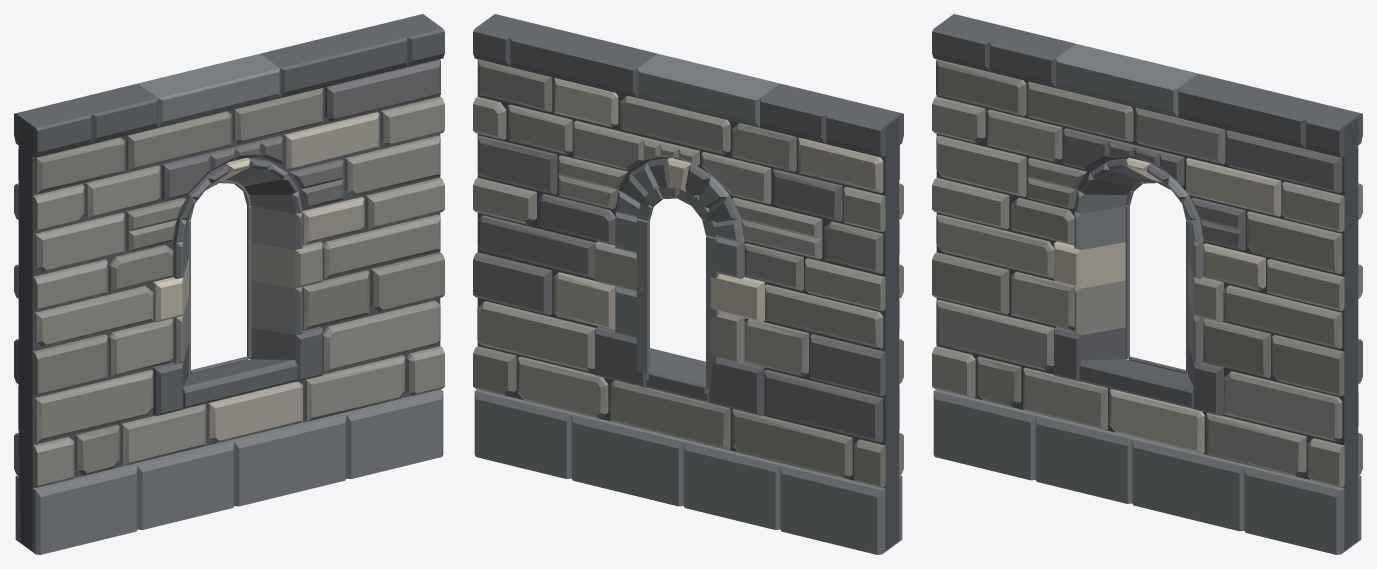
Rendered from SM_LPD_Struct_WallWindowLancet_01.fbx.
3 renders of one model, left to right at view 1: azimuth 30°, elevation 25°; view 2: azimuth 150°, elevation 25°; view 3: azimuth 330°, elevation 25°, orthographic.
Visible parts, largest first — view 1: SM_LPD_Struct_WallWindowLancet_01; view 2: SM_LPD_Struct_WallWindowLancet_01; view 3: SM_LPD_Struct_WallWindowLancet_01.
Part boxes in pixels (x1=…): SM_LPD_Struct_WallWindowLancet_01: x1=14, y1=14, x2=444, y2=554; SM_LPD_Struct_WallWindowLancet_01: x1=473, y1=14, x2=903, y2=554; SM_LPD_Struct_WallWindowLancet_01: x1=932, y1=14, x2=1362, y2=554.
Bounding box in the file's own units: 4 × 4 × 0.4.
